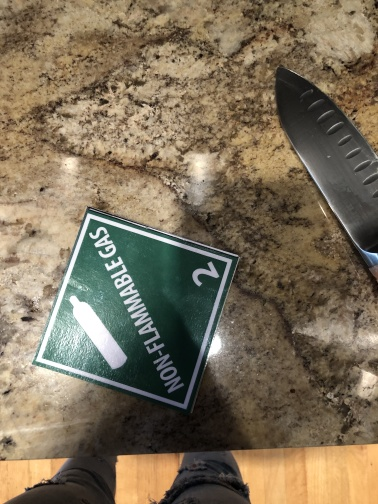NonFlammableGas: (29, 207, 240, 414)
